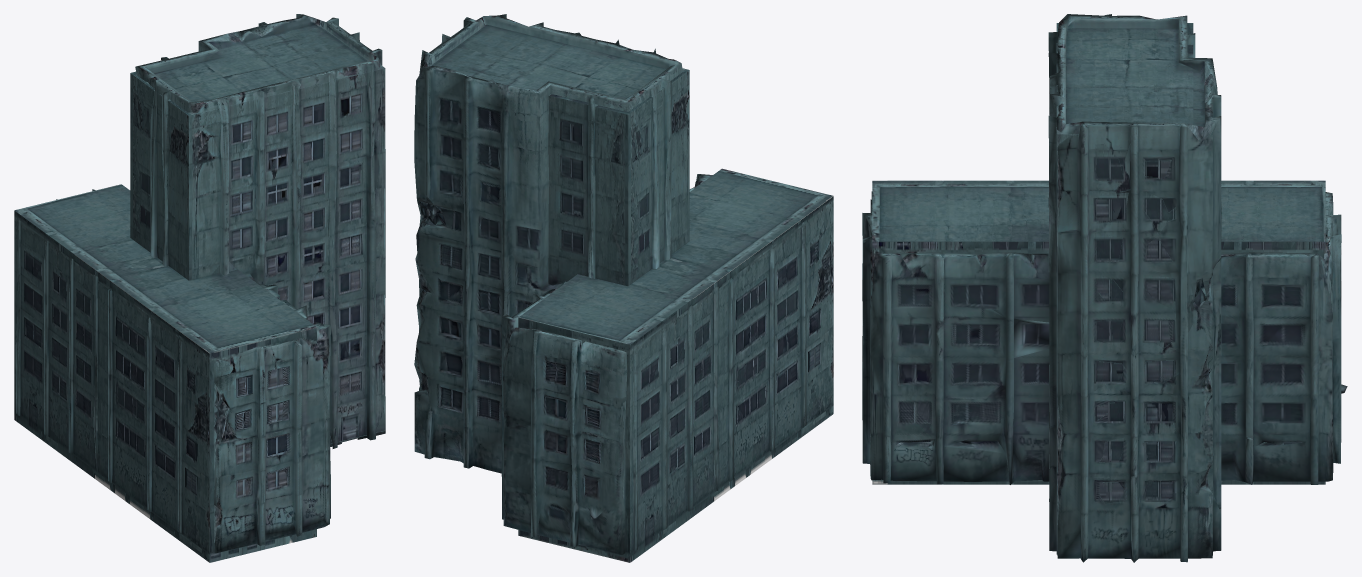
The model's file is brutalist-building-1-cbake.glb.
The picture shows the model from 3 angles, left to right: view 1: azimuth 30°, elevation 25°; view 2: azimuth 150°, elevation 25°; view 3: azimuth 270°, elevation 25°; orthographic projection. The views are drawn at different scales.
Parts seen in each view (by area): view 1: Building, tripo_node_046fecc3-6481-4740-bb27-65675eb29b50; view 2: Building, tripo_node_046fecc3-6481-4740-bb27-65675eb29b50; view 3: tripo_node_046fecc3-6481-4740-bb27-65675eb29b50, Building.
Part boxes in pixels (left/top/right/bottom): Building: left=14, top=26, right=385, bottom=562; tripo_node_046fecc3-6481-4740-bb27-65675eb29b50: left=15, top=14, right=385, bottom=553; Building: left=424, top=24, right=833, bottom=562; tripo_node_046fecc3-6481-4740-bb27-65675eb29b50: left=414, top=14, right=806, bottom=554; tripo_node_046fecc3-6481-4740-bb27-65675eb29b50: left=862, top=14, right=1347, bottom=562; Building: left=872, top=23, right=1325, bottom=554.
Size of the model in its own units: 0.7316 by 1.01 by 1.
Materials: 2 (2 with a texture image).
